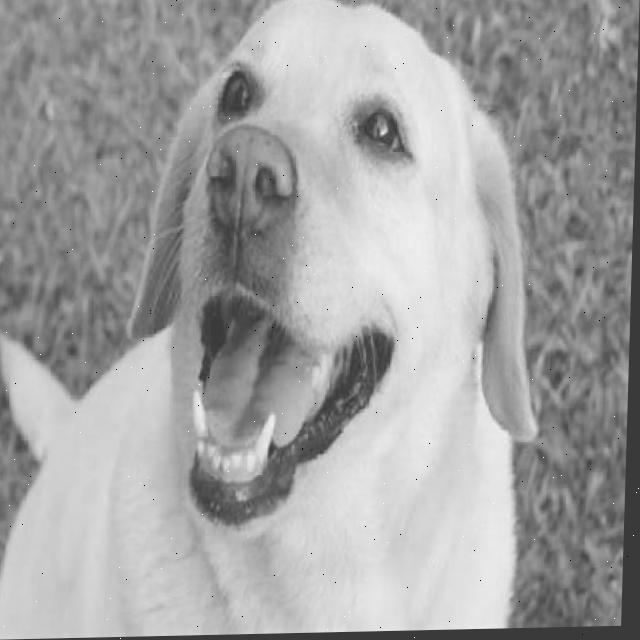Dog: (0, 1, 564, 638)
